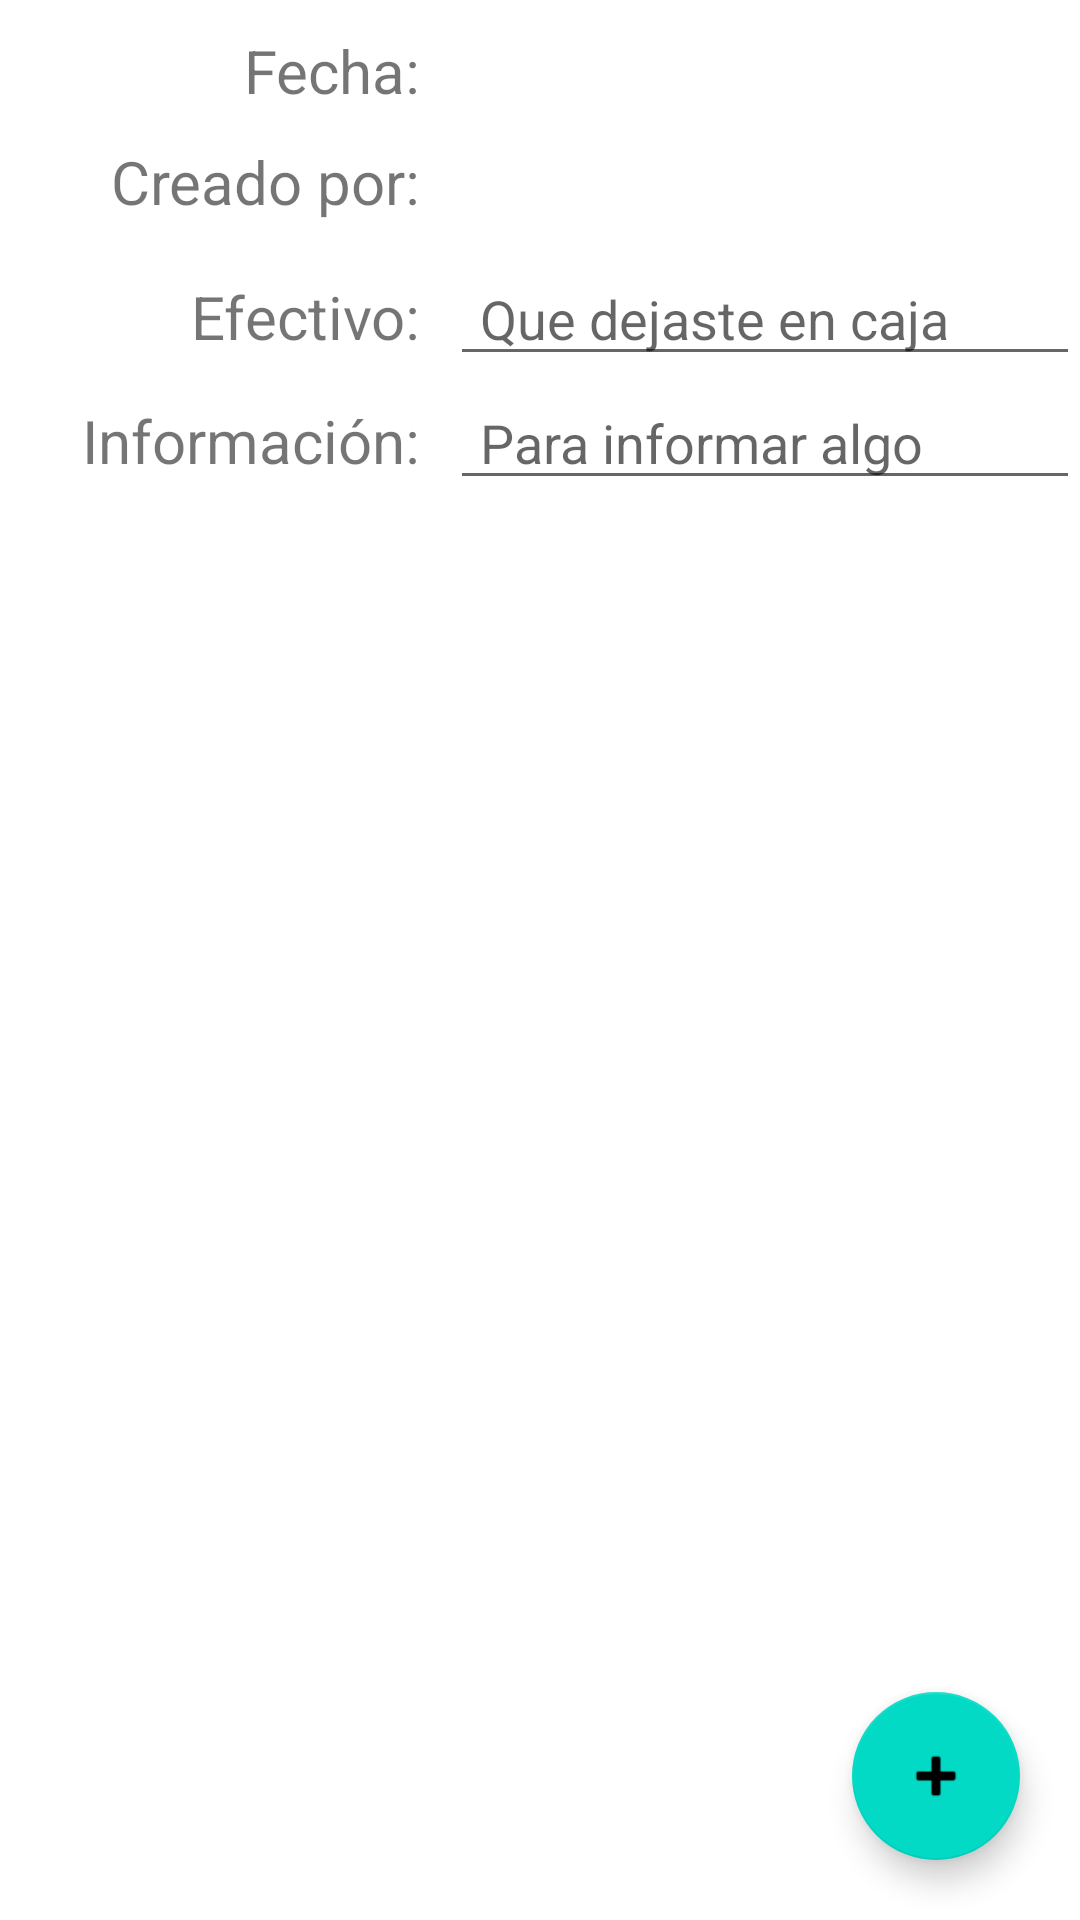

Icon bounding boxes for this 1080 × 1920 phone screenshot, format (x1, y1, x2, y2):
Adicionar Producto: (852, 1692, 1020, 1860)
